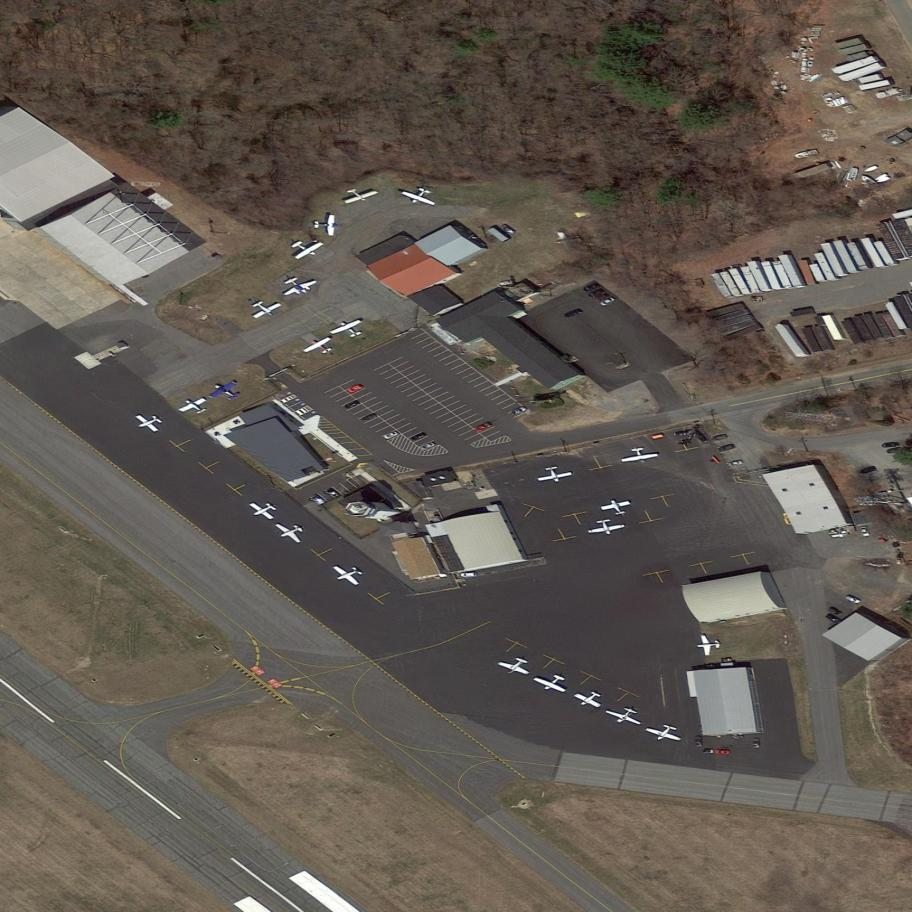plane: (326, 554, 371, 595), (269, 512, 313, 552), (284, 229, 329, 268), (273, 268, 322, 303), (203, 373, 247, 411), (242, 292, 287, 326), (529, 667, 576, 698), (327, 312, 371, 345), (601, 701, 649, 731), (130, 404, 168, 441), (244, 493, 284, 528), (300, 330, 341, 363), (493, 652, 538, 681), (642, 719, 688, 747), (397, 183, 443, 210), (570, 683, 609, 714), (338, 181, 381, 209), (175, 392, 212, 422), (586, 516, 628, 539), (533, 464, 575, 486), (618, 445, 660, 466), (598, 495, 634, 518), (696, 631, 721, 659), (314, 214, 340, 237)
small-vehicle: (470, 420, 494, 436), (506, 404, 529, 418), (823, 612, 844, 626), (359, 411, 380, 424), (325, 486, 343, 501), (409, 431, 429, 444), (344, 383, 364, 396), (500, 222, 517, 237), (564, 307, 585, 319), (598, 296, 616, 309), (845, 594, 864, 606), (582, 282, 601, 294), (343, 399, 362, 411), (311, 493, 326, 508), (858, 523, 871, 540), (724, 459, 746, 469), (716, 444, 737, 454), (587, 288, 606, 299), (420, 440, 438, 451), (381, 430, 399, 441), (592, 293, 609, 304), (887, 446, 906, 455), (826, 606, 841, 617), (693, 734, 704, 749), (711, 434, 729, 442), (881, 442, 900, 448), (672, 430, 688, 437), (460, 572, 477, 578), (752, 739, 761, 749), (701, 749, 714, 755), (714, 750, 730, 754)
